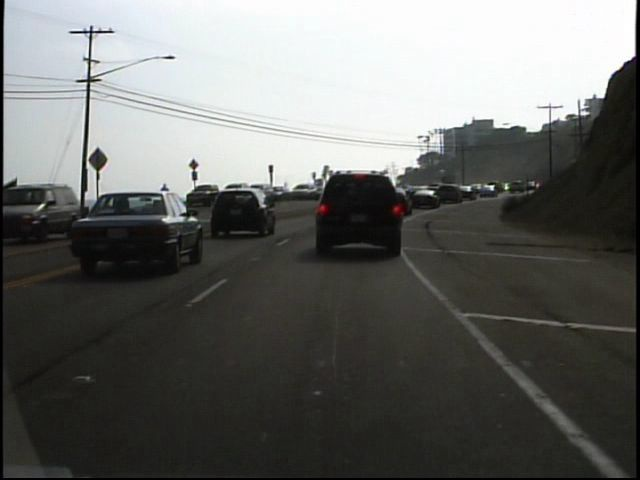person: (157, 179, 174, 210)
